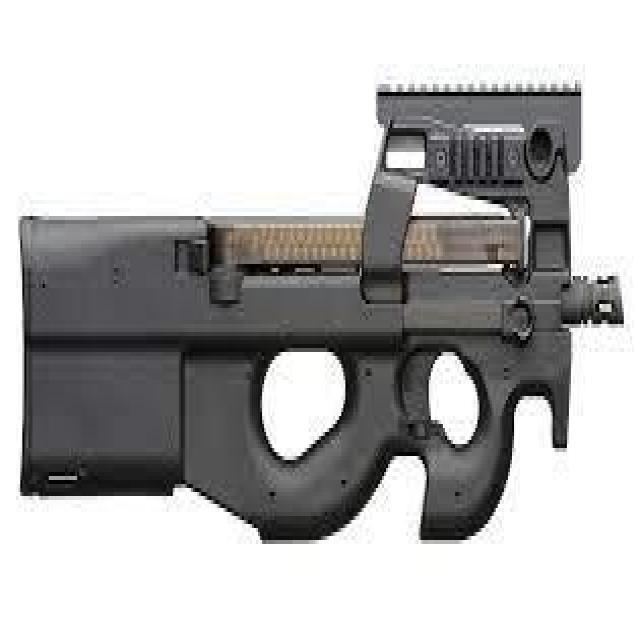Gun: (14, 61, 640, 578)
